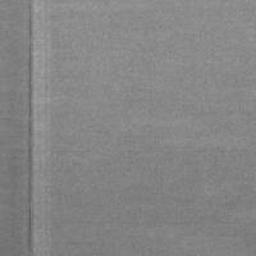Welding line: (26, 0, 33, 256)
